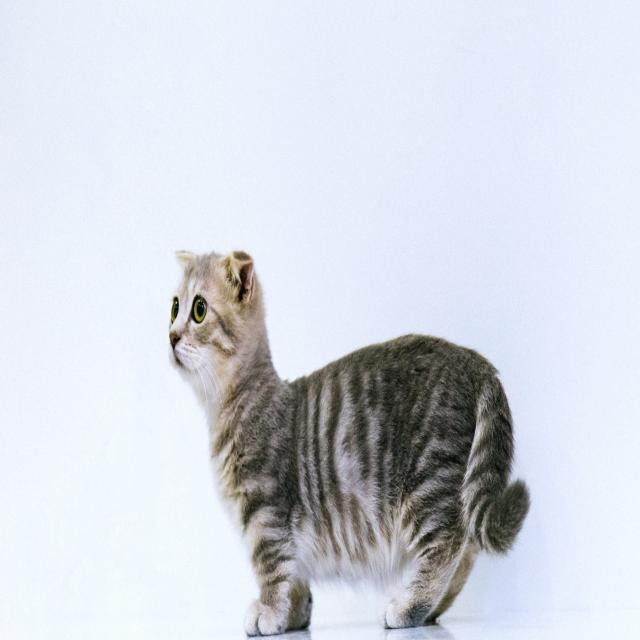Munchkin: (163, 244, 532, 639)
